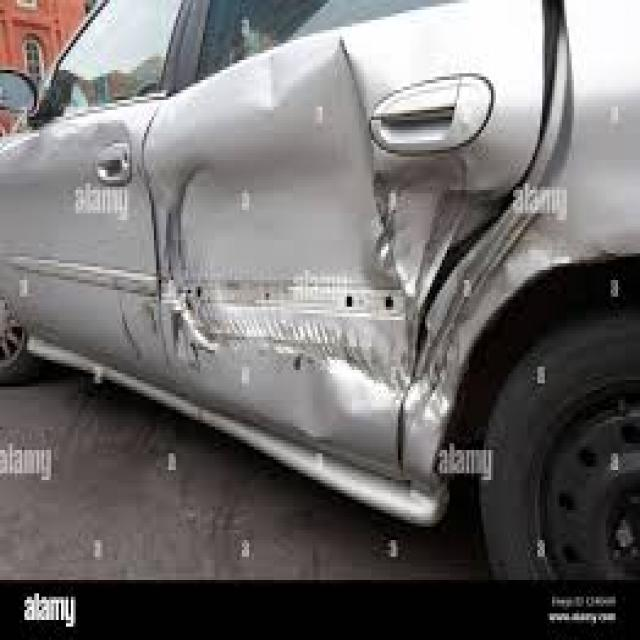damaged-door: (166, 0, 557, 477)
